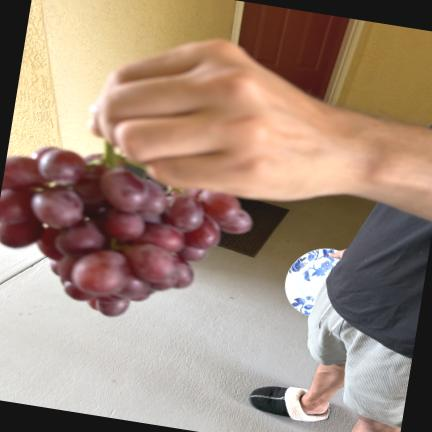grape_cluster: (0, 142, 252, 316)
